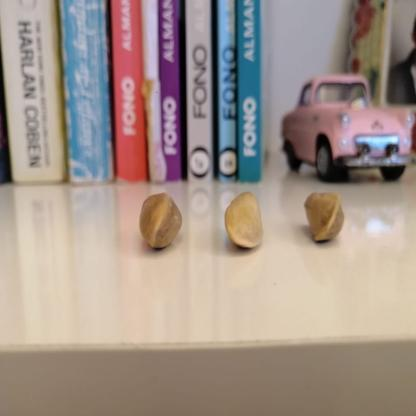pistachio: (137, 184, 194, 255), (217, 188, 268, 250), (299, 186, 348, 241)
